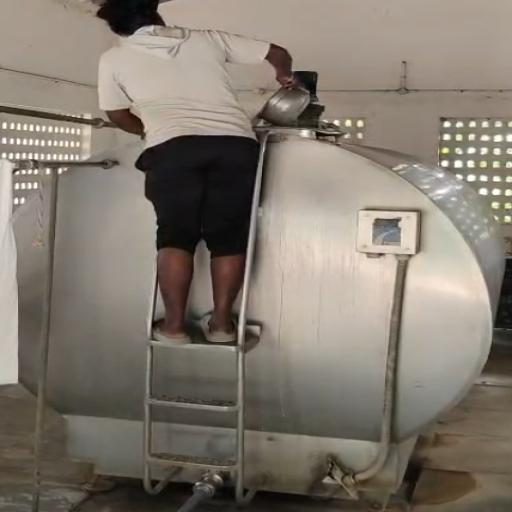silo: (13, 124, 507, 500)
vessel: (257, 86, 311, 127)
